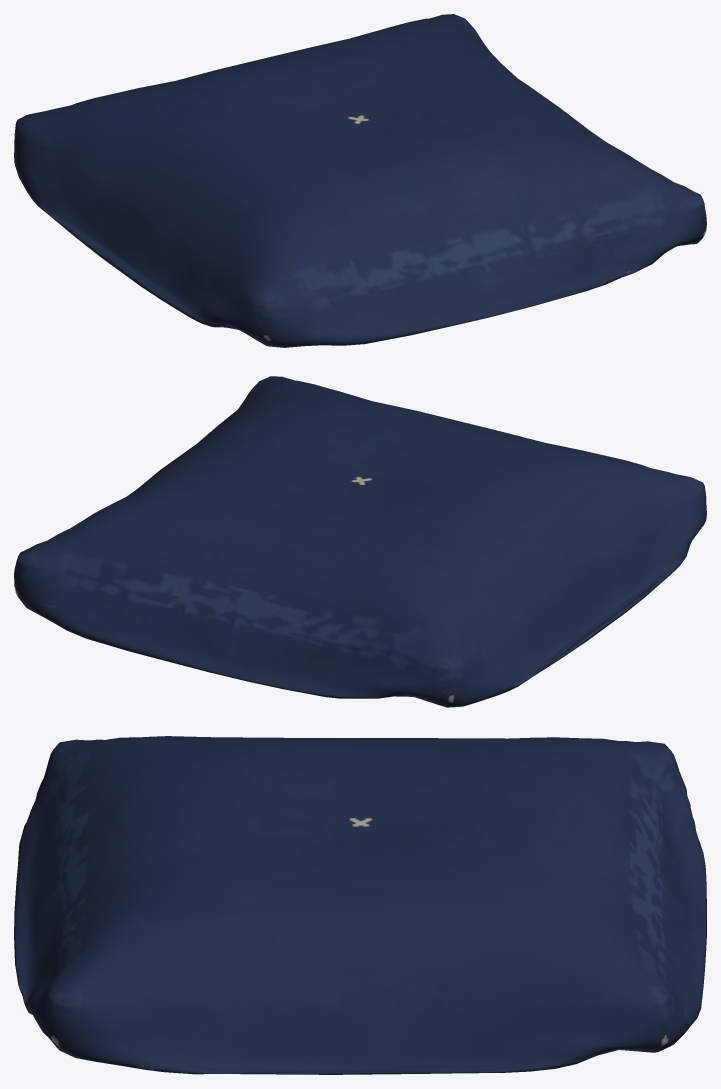
File: zabuton_indigo.glb
The picture shows the model from 3 angles, top to bottom: view 1: azimuth 30°, elevation 25°; view 2: azimuth 150°, elevation 25°; view 3: azimuth 270°, elevation 25°; orthographic projection. The views are drawn at different scales.
Parts seen in each view (by area): view 1: prop_zabuton_indigo_felt; view 2: prop_zabuton_indigo_felt; view 3: prop_zabuton_indigo_felt.
Part boxes in pixels (left/top/right/bottom): prop_zabuton_indigo_felt: left=14, top=14, right=706, bottom=347; prop_zabuton_indigo_felt: left=14, top=376, right=706, bottom=707; prop_zabuton_indigo_felt: left=14, top=736, right=706, bottom=1074.
Bounding box in the file's own units: 1.16 × 0.2226 × 1.18.
1 material, 1 textured.
